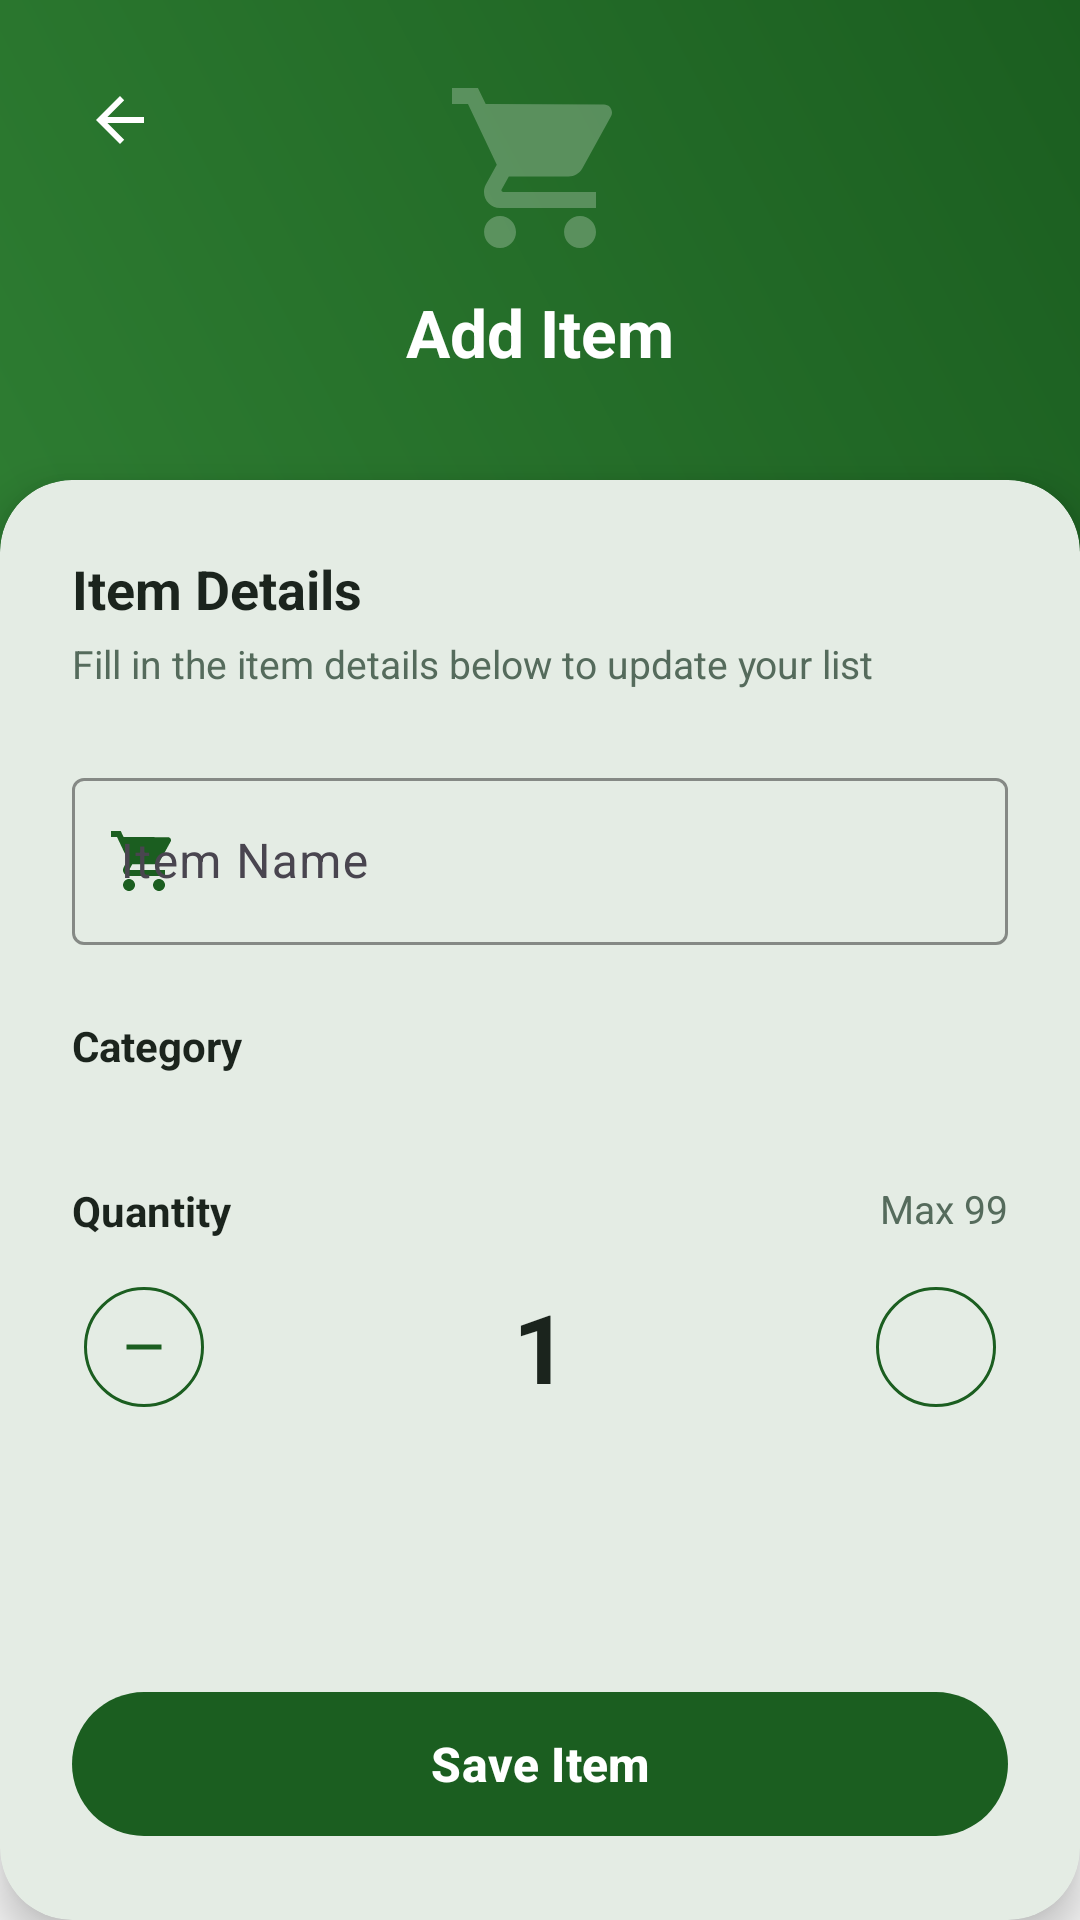

Icon bounding boxes for this 1080w x 1920h phone screenshot, format (x1, y1, x2, y2):
Back: (96, 96, 144, 144)
Cart: (452, 88, 612, 248)
minus: (84, 1287, 204, 1407)
